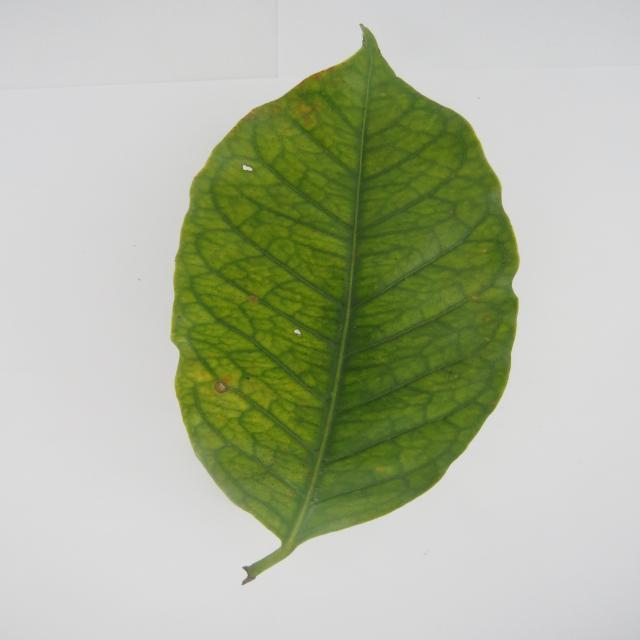DeficienciaNutricional-Hierro: (172, 27, 517, 559)
